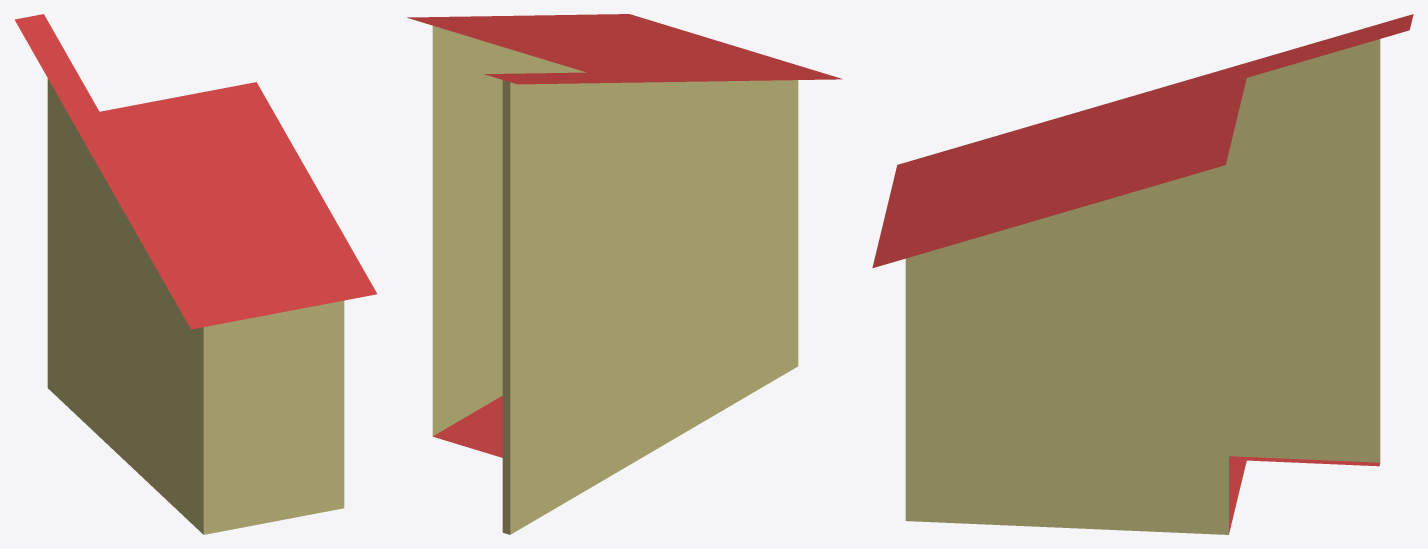
The picture shows the model from 3 angles, left to right: view 1: azimuth 30°, elevation 25°; view 2: azimuth 150°, elevation 25°; view 3: azimuth 270°, elevation 25°; orthographic projection. The views are drawn at different scales.
Bounding box in the file's own units: 4.63 × 8.93 × 7.96.
